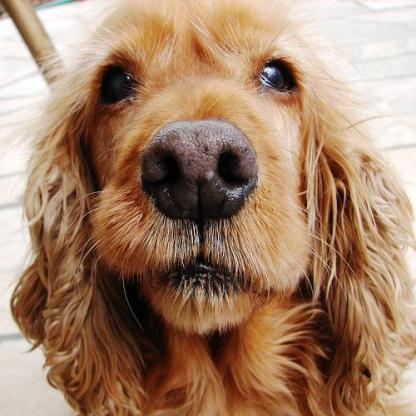cocker_spaniel: (8, 1, 414, 413)
